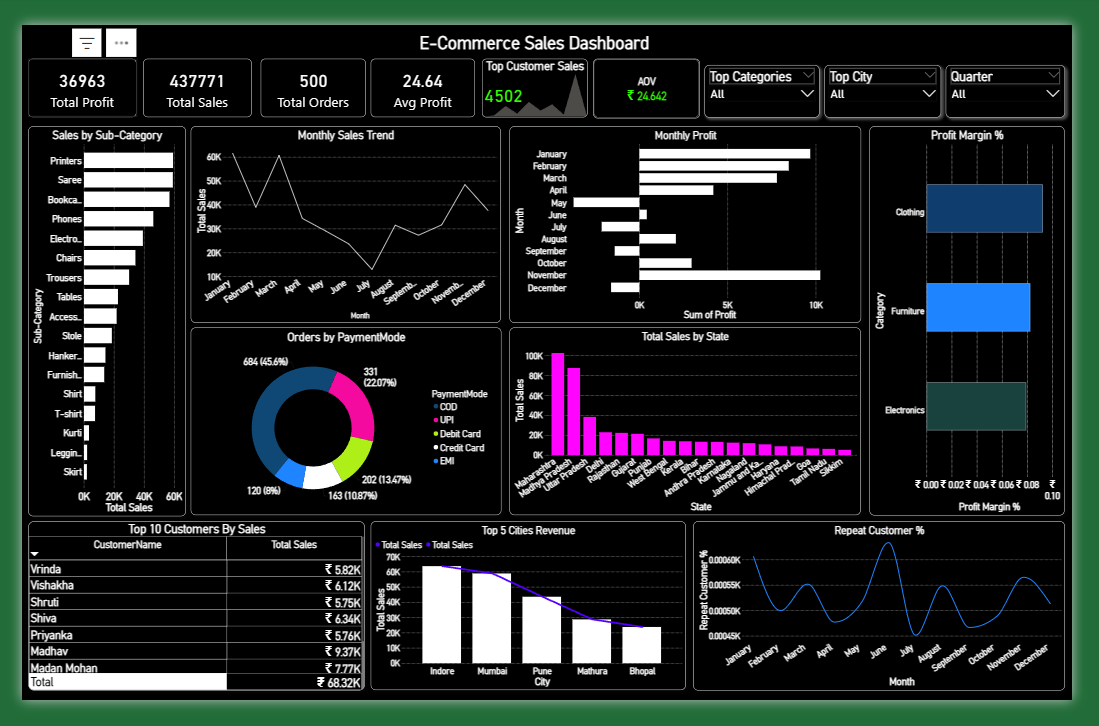

What the dashboard file says about the page in this screenshot:
{"tool":"powerbi","page":{"name":"Page 1","canvas":[4200,2700],"ordinal":0},"visuals":[{"type":"card","fields":{"Values":["Details.Total Profit"]},"box":[26.7,136.7,433,233.3],"z":0},{"type":"barChart","title":" Monthly Profit","fields":{"Category":["Orders.Order Date.Variation.Date Hierarchy.Month"],"Y":["Sum(Details.Profit)"]},"box":[1950,403.3,1406.7,786.7],"z":1000},{"type":"textbox","box":[1535,25,1030,110],"z":2000},{"type":"lineChart","title":"Monthly Sales Trend","fields":{"Y":["Details.Total Sales"],"Category":["Orders.Order Date.Variation.Date Hierarchy.Month"]},"box":[676.7,403.3,1240,786.7],"z":3000},{"type":"clusteredBarChart","title":"Sales by Sub-Category","fields":{"Category":["Details.Category","Details.Sub-Category"],"Y":["Details.Total Sales"]},"box":[25,405,630,1560],"z":4000},{"type":"slicer","fields":{"Values":["Orders.Order Date.Variation.Date Hierarchy.Quarter"]},"box":[3693.3,160,476.7,210],"z":5000},{"type":"donutChart","title":"Orders by PaymentMode","fields":{"Category":["Details.PaymentMode"],"Y":["Details.Count of orders"]},"box":[675,1210,1242.5,750],"z":6000},{"type":"tableEx","title":"Top 10 Customers By Sales","fields":{"Values":["Orders.CustomerName","Details.Total Sales"]},"box":[26.7,1983.3,1346.7,676.7],"z":7000},{"type":"clusteredColumnChart","fields":{"Y":["Details.Total Sales"],"Category":["Orders.State"]},"box":[1950,1210,1405,750],"z":8000},{"type":"lineStackedColumnComboChart","title":"Top 5 Cities  Revenue","fields":{"Category":["Orders.City"],"Y":["Details.Total Sales"],"Y2":["Details.Total Sales"]},"box":[1395,1985,1260,675],"z":9000},{"type":"kpi","title":"Top Customer Sales","fields":{"TrendLine":["Orders.Order ID"],"Indicator":["Details.Total Sales"]},"box":[1838.3,136.9,422.4,234.7],"z":10000},{"type":"slicer","fields":{"Values":["Details.Category"]},"box":[2730,160,460,210],"z":11000},{"type":"slicer","fields":{"Values":["Orders.City"]},"box":[3210,160,466.7,210],"z":12000},{"type":"lineChart","title":"Repeat Customer % ","fields":{"Category":["Orders.Order Date.Variation.Date Hierarchy.Month"],"Y":["Details.Repeat Customer %"]},"box":[2683.2,1983.1,1486.3,676.7],"z":13000},{"type":"barChart","title":"Profit Margin % ","fields":{"Y":["Details.Profit Margin %"],"Category":["Details.Category"],"Series":["Details.Category"]},"box":[3390,403.3,780,1556.7],"z":14000},{"type":"cardVisual","fields":{"Data":["Details.AOV"]},"box":[2284.2,133,426.3,238.6],"z":15000},{"type":"card","fields":{"Values":["Details.Total Sales"]},"box":[486.7,136.7,433.3,233.3],"z":16000},{"type":"card","fields":{"Values":["Details.Total Orders"]},"box":[953.3,136.7,420,233.3],"z":17000},{"type":"card","fields":{"Values":["Details.Avg Profit"]},"box":[1396.7,136.7,416.7,233.3],"z":18000}]}

Visuals, with their boxes in screenshot pixels (x1, y1, x2, y2), scaled from the page's 4200x2700 canvas onto the 1099x726 screenshot:
card - Details.Total Profit: bbox=[7, 37, 120, 99]
" Monthly Profit" barChart: bbox=[510, 108, 878, 320]
textbox: bbox=[402, 7, 671, 36]
"Monthly Sales Trend" lineChart: bbox=[177, 108, 502, 320]
"Sales by Sub-Category" clusteredBarChart: bbox=[7, 109, 171, 528]
slicer - Orders.Order Date.Variation.Date Hierarchy.Quarter: bbox=[966, 43, 1091, 99]
"Orders by PaymentMode" donutChart: bbox=[177, 325, 502, 527]
"Top 10 Customers By Sales" tableEx: bbox=[7, 533, 359, 715]
clusteredColumnChart - Details.Total Sales x Orders.State: bbox=[510, 325, 878, 527]
"Top 5 Cities  Revenue" lineStackedColumnComboChart: bbox=[365, 534, 695, 715]
"Top Customer Sales" kpi: bbox=[481, 37, 592, 100]
slicer - Details.Category: bbox=[714, 43, 835, 99]
slicer - Orders.City: bbox=[840, 43, 962, 99]
"Repeat Customer % " lineChart: bbox=[702, 533, 1091, 715]
"Profit Margin % " barChart: bbox=[887, 108, 1091, 527]
cardVisual - Details.AOV: bbox=[598, 36, 709, 100]
card - Details.Total Sales: bbox=[127, 37, 241, 99]
card - Details.Total Orders: bbox=[249, 37, 359, 99]
card - Details.Avg Profit: bbox=[365, 37, 475, 99]
